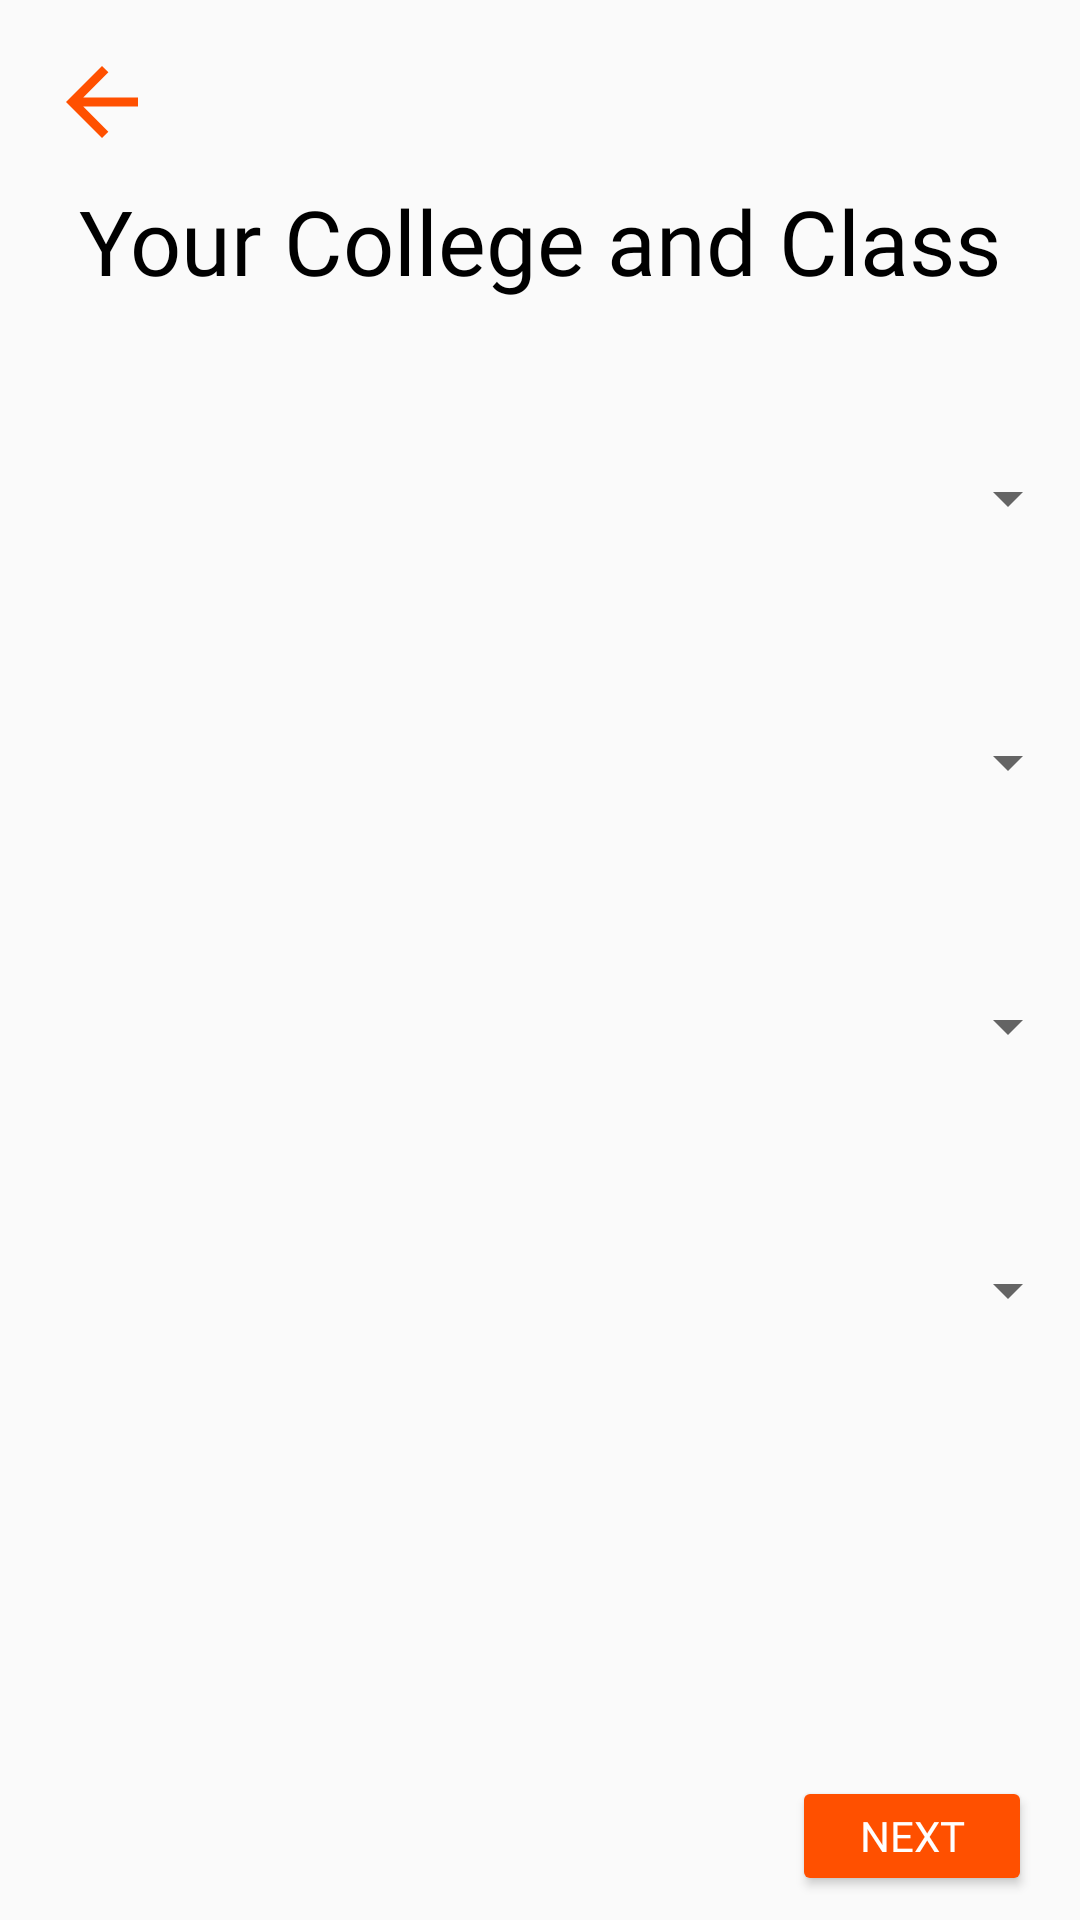

Icon click points for this 1080 x 1920 phone screenshot, format (x,y):
arrow back: (102,102)
